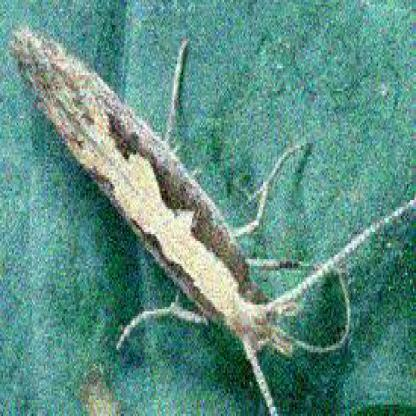plutella: (9, 21, 414, 414)
